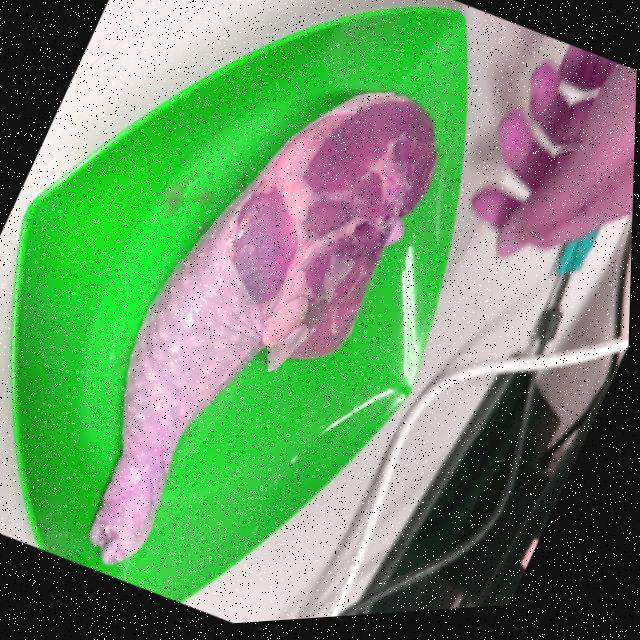quater: (76, 84, 438, 550)
